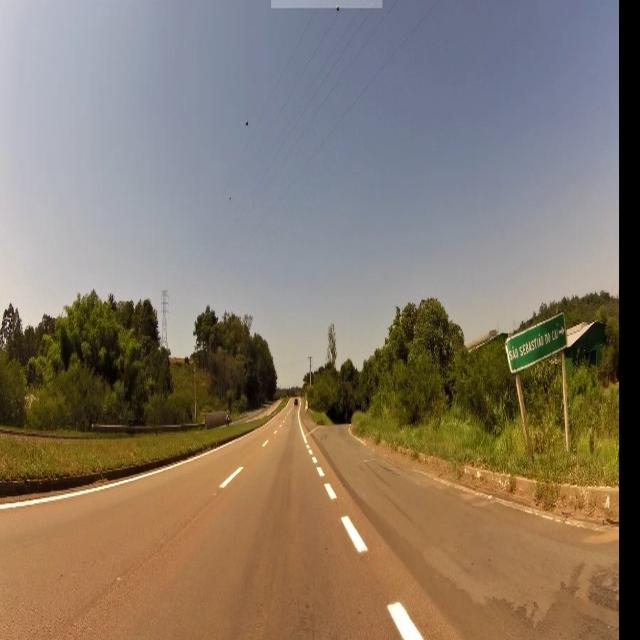I-4: (504, 312, 570, 371)
